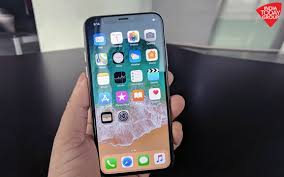iphone: (79, 9, 173, 176)
iphone10: (80, 9, 174, 176)
